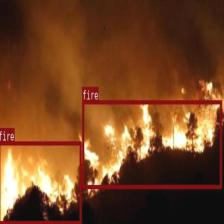fire: (82, 100, 222, 188), (0, 142, 81, 224)
